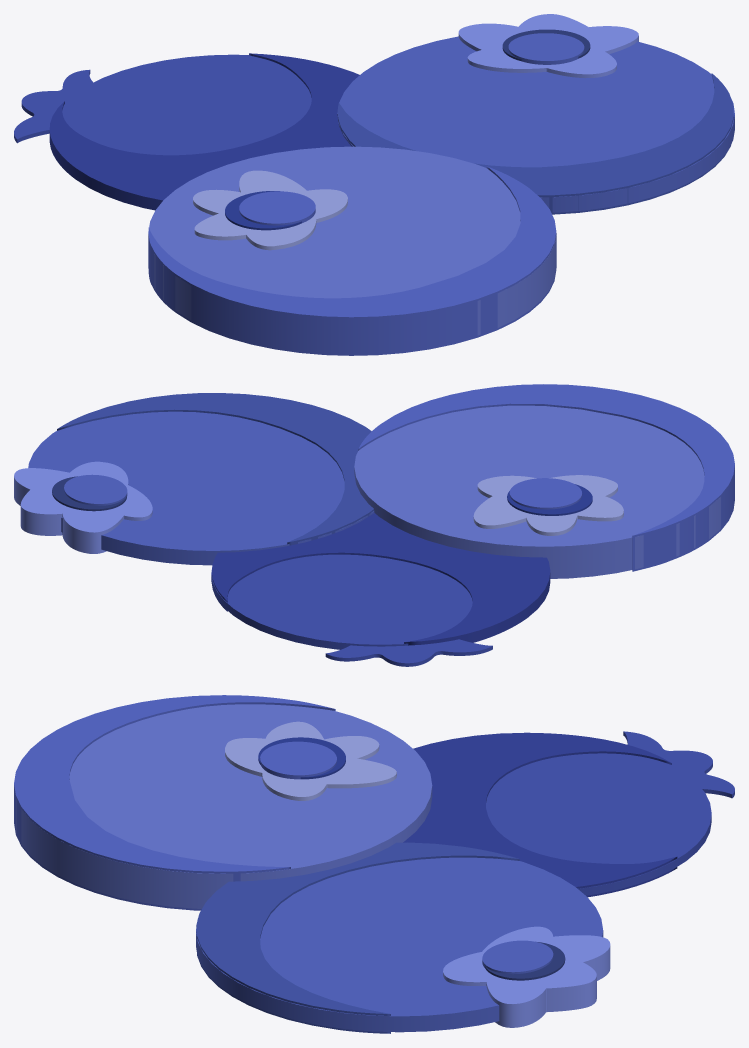
File: emoji_u1fad0.glb
3 views of the same model, one above another, from view 1: azimuth 30°, elevation 25°; view 2: azimuth 150°, elevation 25°; view 3: azimuth 270°, elevation 25° (orthographic). The views are drawn at different scales.
Parts seen in each view (by area): view 1: emoji_u1fad0; view 2: emoji_u1fad0; view 3: emoji_u1fad0.
Boxes of the visible parts, x1,y1,x2,y2 form: emoji_u1fad0: (14,14,734,355); emoji_u1fad0: (14,384,734,666); emoji_u1fad0: (14,695,734,1033).
Bounding box in the file's own units: 0.0335 × 0.0026 × 0.033.
